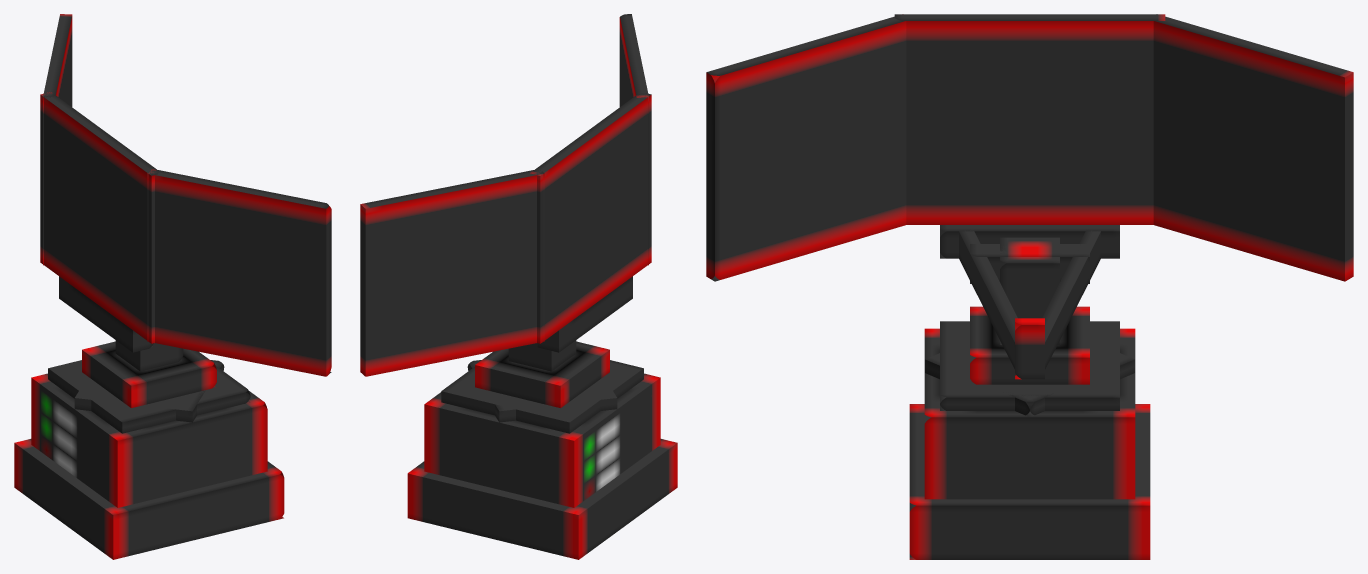
Rendered from radar_station.obj.
3 renders of one model, left to right at view 1: azimuth 30°, elevation 25°; view 2: azimuth 150°, elevation 25°; view 3: azimuth 270°, elevation 25°, orthographic. The views are drawn at different scales.
Parts seen in each view (by area): view 1: Secondary_Dish_Piece_1, Main_Dish_Piece, Main_Base, Main_Base_Outer_Layer, Pivot_Support_3, Pivot_Support_1, Secondary_Dish_Piece_2, Main_Dish_Support, Pivot_Support_2_Pivot_Support_1.001, Pivot_Point; view 2: Secondary_Dish_Piece_2, Main_Dish_Piece, Main_Base, Main_Base_Outer_Layer, Pivot_Support_3, Pivot_Support_1, Secondary_Dish_Piece_1, Main_Dish_Support, Pivot_Point, Pivot_Support_2_Pivot_Support_1.001; view 3: Main_Dish_Piece, Secondary_Dish_Piece_1, Secondary_Dish_Piece_2, Main_Base, Main_Base_Outer_Layer, Pivot_Support_1, Pivot_Support_3, Pivot_Point, Main_Dish_Support, Focus_Support_1, Focus_Support_2, Focus_Point (+2 smaller).
Boxes of the visible parts, x1,y1,x2,y2 form: Secondary_Dish_Piece_1: (147,169,331,376); Main_Dish_Piece: (40,92,159,343); Main_Base: (31,373,267,507); Main_Base_Outer_Layer: (14,439,284,559); Pivot_Support_3: (82,341,216,407); Pivot_Support_1: (48,360,250,433); Secondary_Dish_Piece_2: (43,14,72,265); Main_Dish_Support: (59,276,153,352); Pivot_Support_2_Pivot_Support_1.001: (74,360,224,422); Pivot_Point: (115,340,183,371); Secondary_Dish_Piece_2: (360,170,544,376); Main_Dish_Piece: (530,93,651,343); Main_Base: (424,373,660,507); Main_Base_Outer_Layer: (407,439,677,559); Pivot_Support_3: (475,341,609,407); Pivot_Support_1: (441,360,643,433); Secondary_Dish_Piece_1: (619,14,648,265); Main_Dish_Support: (537,276,632,352); Pivot_Point: (508,340,576,371); Pivot_Support_2_Pivot_Support_1.001: (467,360,617,422); Main_Dish_Piece: (894,14,1165,224); Secondary_Dish_Piece_1: (706,16,906,281); Secondary_Dish_Piece_2: (1153,14,1353,281); Main_Base: (924,328,1135,499); Main_Base_Outer_Layer: (909,404,1150,559); Pivot_Support_1: (940,321,1119,410); Pivot_Support_3: (970,306,1089,384); Pivot_Point: (1000,237,1059,344); Main_Dish_Support: (940,225,1119,258); Focus_Support_1: (959,229,1017,369); Focus_Support_2: (1042,229,1100,369); Focus_Point: (1015,318,1044,379).
Bounding box in the file's own units: 1.5 × 2.12 × 2.69.
